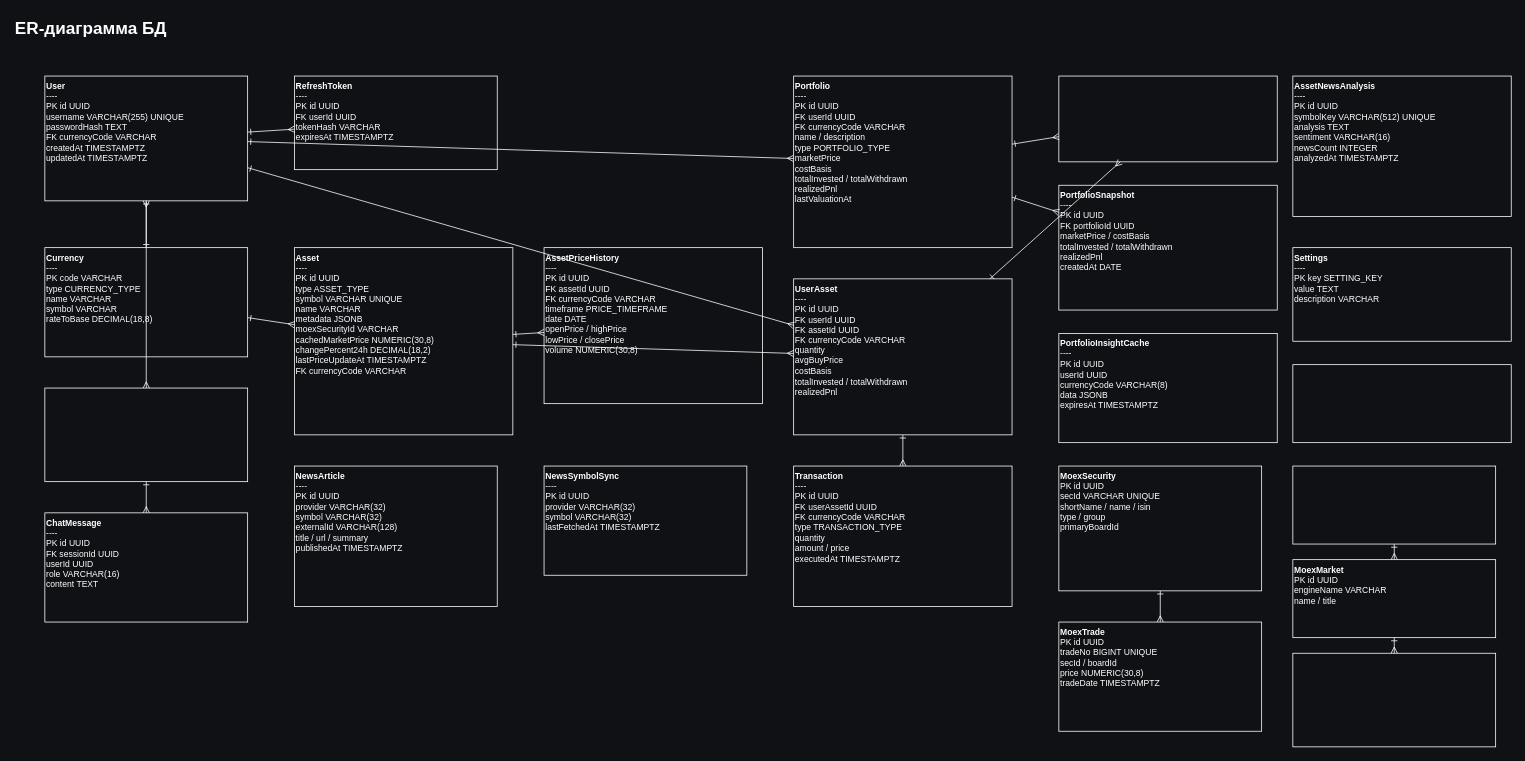
Image size: 1525x761. Some labels were removed from this diagram. Each missing label, with the centre of its shape:
ChatSession ---- PK id UUID userId UUID title VARCHAR(200): pixel 146 434
Holiday ---- PK date DATE isDayOff BOOLEAN: pixel 1401 403
MoexBoard PK id UUID engineName / marketName boardId VARCHAR isTraded BOOLEAN: pixel 1394 699
MoexEngine PK id UUID moexId INTEGER name VARCHAR UNIQUE: pixel 1394 504
PortfolioAsset ---- PK id UUID FK portfolioId UUID FK userAssetId UUID: pixel 1167 118
